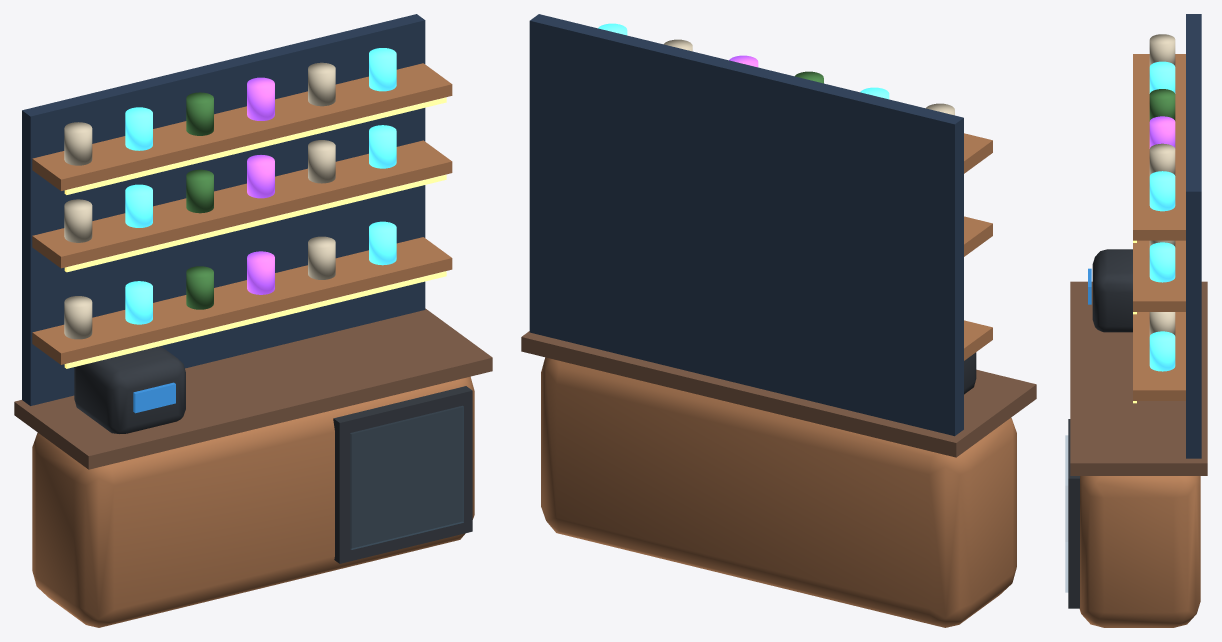
The model's file is refreshment_station.glb.
3 renders of one model, left to right at view 1: azimuth 30°, elevation 25°; view 2: azimuth 150°, elevation 25°; view 3: azimuth 270°, elevation 25°, orthographic. The views are drawn at different scales.
Parts seen in each view (by area): view 1: root_copper, root_navy, root_wood, fridge_door_charcoal, fridge_door_glass, root_cream, root_blue, root_charcoal, root_warm, root_green, root_purple, root_screen; view 2: root_navy, root_copper, root_wood; view 3: root_copper, root_wood, root_navy, root_blue, root_charcoal, root_cream, fridge_door_charcoal, root_purple, root_green, fridge_door_glass.
Part boxes in pixels (left/top/right/bottom): root_copper: left=32, top=63, right=474, bottom=627; root_navy: left=22, top=14, right=425, bottom=405; root_wood: left=14, top=308, right=492, bottom=469; fridge_door_charcoal: left=333, top=386, right=472, bottom=563; fridge_door_glass: left=350, top=406, right=463, bottom=549; root_cream: left=64, top=62, right=335, bottom=339; root_blue: left=125, top=48, right=396, bottom=324; root_charcoal: left=74, top=346, right=185, bottom=433; root_warm: left=64, top=97, right=446, bottom=368; root_green: left=186, top=92, right=213, bottom=309; root_purple: left=247, top=77, right=274, bottom=294; root_screen: left=133, top=382, right=175, bottom=413; root_navy: left=529, top=14, right=963, bottom=436; root_copper: left=541, top=133, right=1016, bottom=627; root_wood: left=521, top=331, right=1036, bottom=457; root_copper: left=1079, top=54, right=1200, bottom=627; root_wood: left=1070, top=281, right=1207, bottom=475; root_navy: left=1186, top=14, right=1201, bottom=458; root_blue: left=1149, top=61, right=1175, bottom=371; root_charcoal: left=1092, top=249, right=1132, bottom=332; root_cream: left=1149, top=34, right=1175, bottom=336; fridge_door_charcoal: left=1068, top=419, right=1079, bottom=608; root_purple: left=1149, top=116, right=1175, bottom=148; root_green: left=1149, top=89, right=1175, bottom=121; fridge_door_glass: left=1065, top=435, right=1067, bottom=592.
Size of the model in its own units: 2.19 by 2.5 by 0.725.
